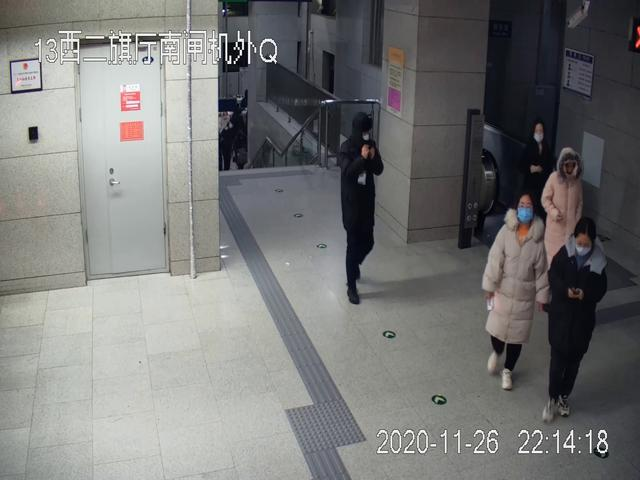person: (480, 191, 551, 391), (542, 221, 609, 427), (340, 112, 384, 306), (542, 147, 584, 313)
